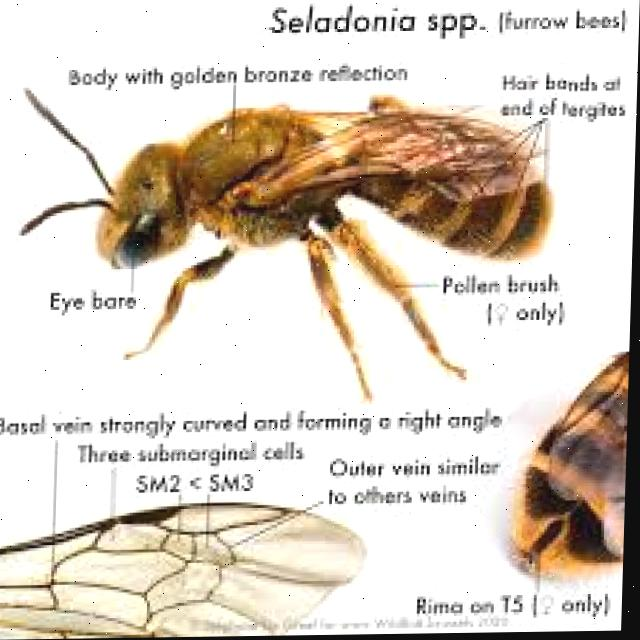Seladonia: (40, 67, 570, 381)
